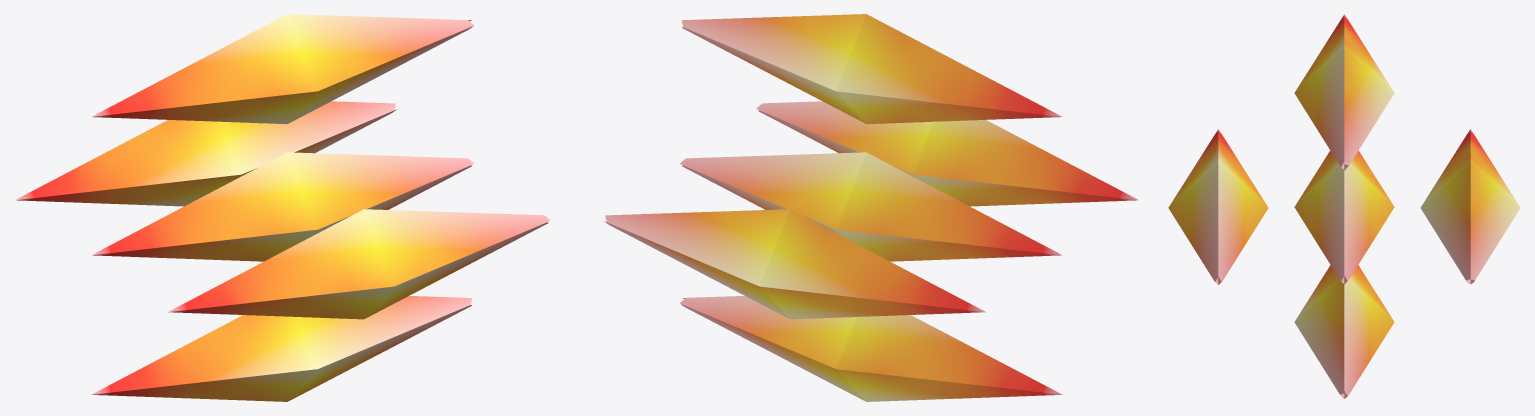
File: Darts.obj
3 views of the same model, side by side, from view 1: azimuth 30°, elevation 25°; view 2: azimuth 150°, elevation 25°; view 3: azimuth 270°, elevation 25° (orthographic). The views are drawn at different scales.
Parts seen in each view (by area): view 1: Cube.009, Cube.006, Cube.010, Cube.007, Cube.008; view 2: Cube.008, Cube.009, Cube.010, Cube.007, Cube.006; view 3: Cube.006, Cube.009, Cube.008, Cube.007, Cube.010.
Part boxes in pixels (box(x1,y1,x2,y2)): Cube.009: box(91, 14, 473, 124); Cube.006: box(168, 209, 550, 319); Cube.010: box(91, 152, 473, 261); Cube.007: box(91, 296, 472, 401); Cube.008: box(15, 101, 396, 206); Cube.008: box(604, 209, 985, 319); Cube.009: box(681, 14, 1062, 124); Cube.010: box(680, 152, 1062, 261); Cube.007: box(679, 296, 1062, 401); Cube.006: box(756, 101, 1138, 206); Cube.006: box(1168, 129, 1268, 284); Cube.009: box(1294, 14, 1394, 170); Cube.008: box(1420, 129, 1520, 284); Cube.007: box(1294, 265, 1394, 398); Cube.010: box(1294, 150, 1394, 284).
Size of the model in its own units: 1.99 by 1.87 by 1.86.
